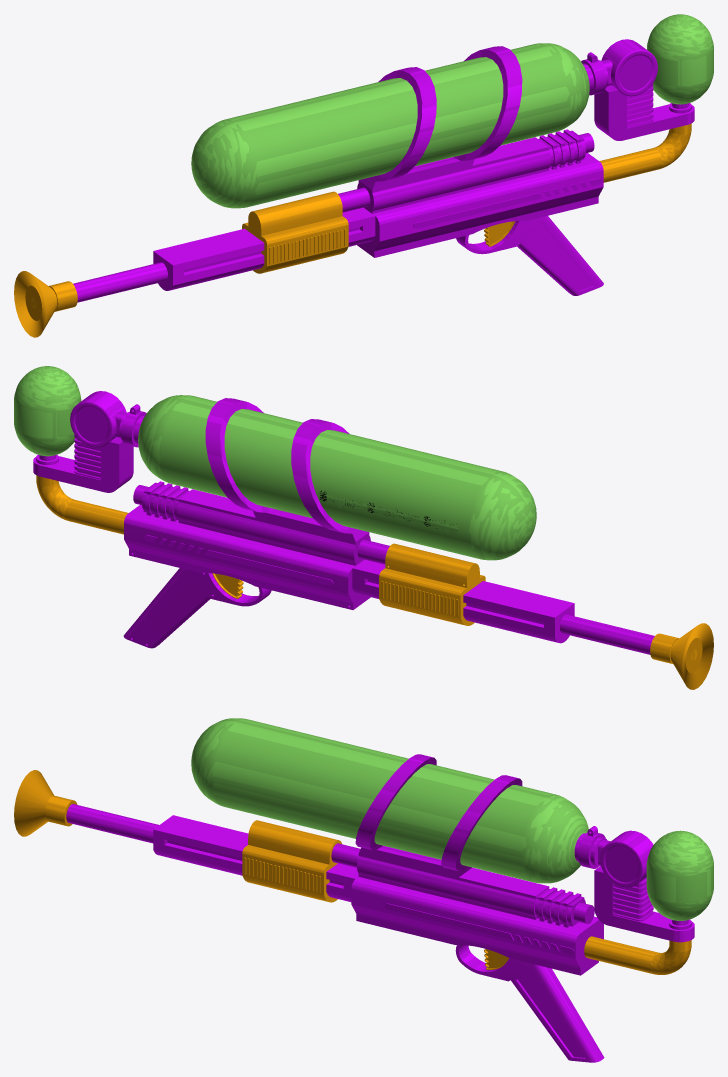
Rendered from goopGun.fbx.
3 renders of one model, top to bottom at view 1: azimuth 30°, elevation 25°; view 2: azimuth 150°, elevation 25°; view 3: azimuth 330°, elevation 25°, orthographic.
Visible parts, largest first — view 1: tank_project_1_:Mesh1sketchup_download200707300807472_1Model, sketchup_download200707300807472_1, tank_project_1_:Mesh2sketchup_download200707300807472_1Model; view 2: tank_project_1_:Mesh1sketchup_download200707300807472_1Model, sketchup_download200707300807472_1; view 3: tank_project_1_:Mesh1sketchup_download200707300807472_1Model, sketchup_download200707300807472_1, tank_project_1_:Mesh2sketchup_download200707300807472_1Model.
Part boxes in pixels (box(x1,y1,x2,y2)): tank_project_1_:Mesh1sketchup_download200707300807472_1Model: box(14, 14, 713, 337); sketchup_download200707300807472_1: box(30, 14, 713, 311); tank_project_1_:Mesh2sketchup_download200707300807472_1Model: box(413, 193, 542, 228); tank_project_1_:Mesh1sketchup_download200707300807472_1Model: box(14, 366, 713, 689); sketchup_download200707300807472_1: box(14, 366, 697, 664); tank_project_1_:Mesh1sketchup_download200707300807472_1Model: box(14, 718, 713, 1062); sketchup_download200707300807472_1: box(45, 718, 713, 1062); tank_project_1_:Mesh2sketchup_download200707300807472_1Model: box(384, 903, 512, 940).
Bounding box in the file's own units: 112 × 41.01 × 14.99.
